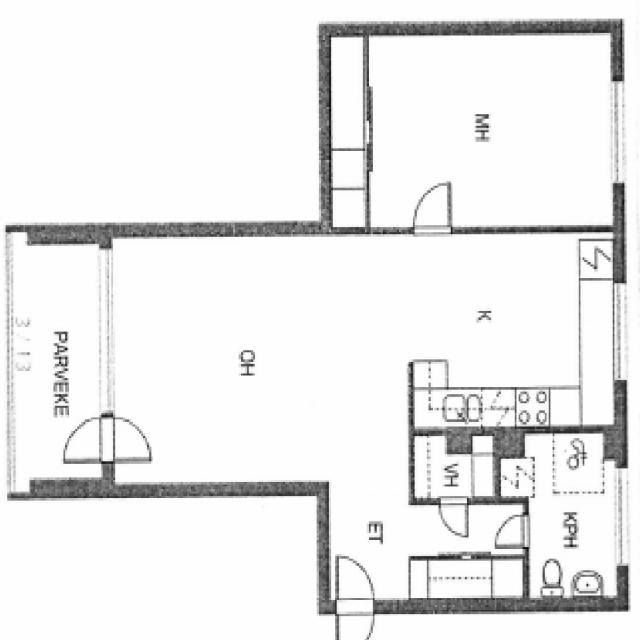door: (336, 551, 376, 612), (62, 416, 115, 462), (102, 416, 154, 462), (414, 186, 451, 237), (336, 597, 376, 640), (492, 514, 528, 548), (439, 497, 468, 539)
